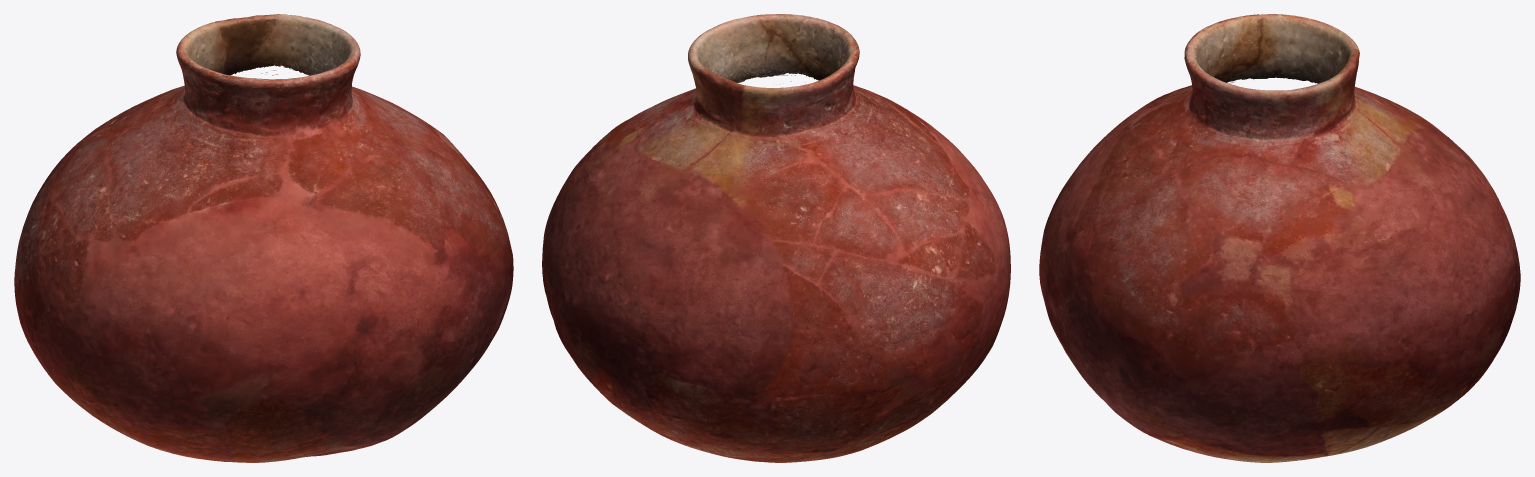
The picture shows the model from 3 angles, left to right: view 1: azimuth 30°, elevation 25°; view 2: azimuth 150°, elevation 25°; view 3: azimuth 270°, elevation 25°; orthographic projection. The views are drawn at different scales.
Parts seen in each view (by area): view 1: Mesh_0.010; view 2: Mesh_0.010; view 3: Mesh_0.010.
Part boxes in pixels (left/top/right/bottom): Mesh_0.010: left=14, top=14, right=513, bottom=462; Mesh_0.010: left=542, top=14, right=1010, bottom=462; Mesh_0.010: left=1039, top=14, right=1520, bottom=462.
Size of the model in its own units: 0.2217 by 0.198 by 0.2176.
Materials: 1 (1 with a texture image).
